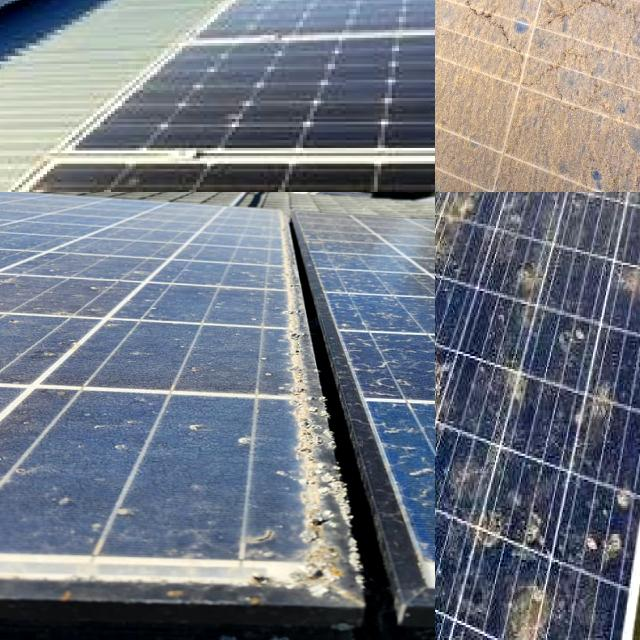bird: (566, 484, 640, 605), (462, 487, 547, 559), (435, 311, 476, 458), (566, 370, 626, 445), (435, 192, 482, 277), (511, 253, 551, 333), (514, 581, 562, 640), (435, 514, 466, 585), (612, 260, 640, 313), (435, 503, 454, 557), (435, 192, 452, 240), (435, 242, 451, 292), (435, 341, 447, 388)
dust: (26, 387, 296, 555), (435, 0, 576, 144), (78, 279, 273, 377), (506, 0, 640, 100), (525, 78, 640, 192), (0, 214, 287, 255), (347, 267, 435, 381), (377, 388, 435, 557), (435, 67, 511, 192), (0, 286, 59, 379), (435, 0, 494, 85)
